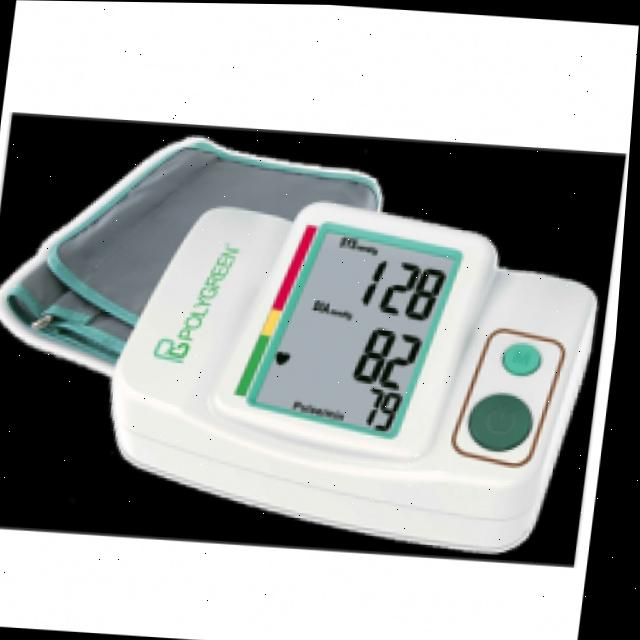dia: (347, 315, 432, 395)
pul: (358, 379, 416, 438)
ssd: (259, 207, 462, 449)
sys: (354, 249, 454, 329)
